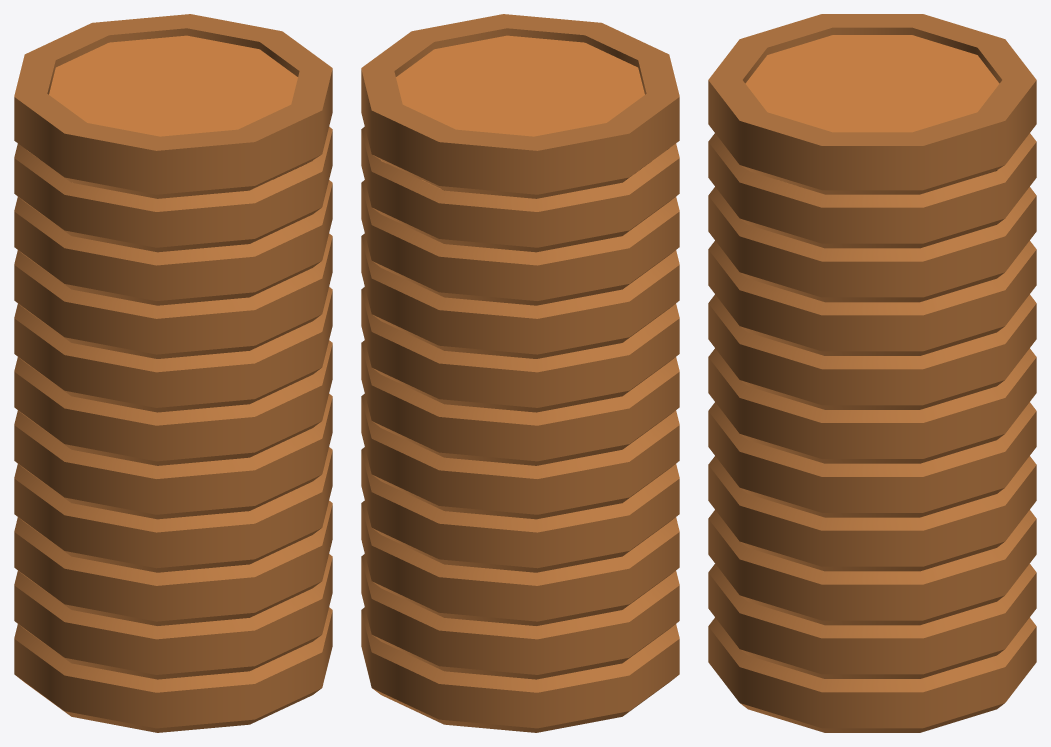
File: Coin_Tower_06.fbx
The picture shows the model from 3 angles, left to right: view 1: azimuth 30°, elevation 25°; view 2: azimuth 150°, elevation 25°; view 3: azimuth 270°, elevation 25°; orthographic projection.
Parts seen in each view (by area): view 1: Coin_Tower_06; view 2: Coin_Tower_06; view 3: Coin_Tower_06.
Boxes of the visible parts, x1,y1,x2,y2 form: Coin_Tower_06: (14,14,332,732); Coin_Tower_06: (361,14,679,732); Coin_Tower_06: (708,14,1036,732).
Size of the model in its own units: 0.0413 by 0.0863 by 0.0435.
